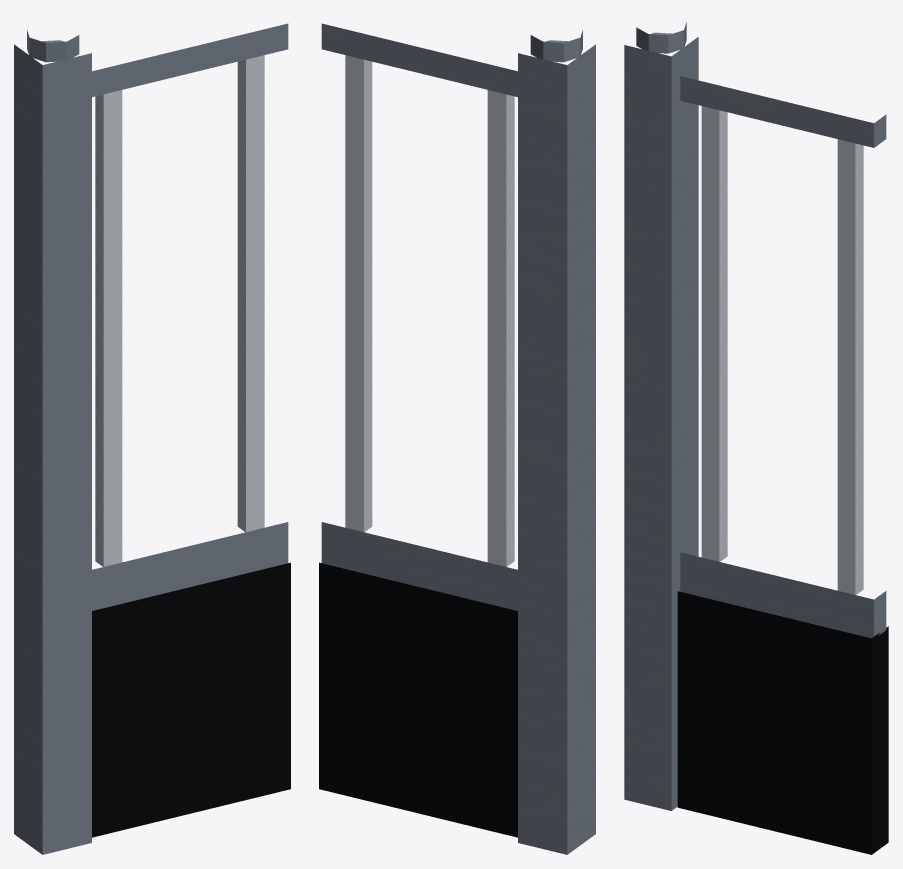
The model's file is tt_play_fence_kick_041.glb.
3 views of the same model, side by side, from view 1: azimuth 30°, elevation 25°; view 2: azimuth 150°, elevation 25°; view 3: azimuth 330°, elevation 25° (orthographic). The views are drawn at different scales.
Parts seen in each view (by area): view 1: Post, Kick, Picket, RailLow, RailTop, Cap; view 2: Post, Kick, Picket, RailLow, RailTop, Cap; view 3: Post, Kick, Picket, RailLow, RailTop, Cap.
Part boxes in pixels (box(x1,y1,x2,y2)): Post: box(14, 44, 91, 854); Kick: box(92, 562, 290, 837); Picket: box(95, 55, 264, 566); RailLow: box(92, 522, 288, 610); RailTop: box(92, 23, 288, 96); Cap: box(27, 30, 79, 62); Post: box(518, 44, 595, 854); Kick: box(319, 562, 517, 837); Picket: box(345, 55, 514, 566); RailLow: box(321, 522, 517, 610); RailTop: box(321, 23, 517, 96); Cap: box(530, 30, 582, 62); Post: box(624, 37, 698, 810); Kick: box(677, 591, 888, 854); Picket: box(701, 106, 863, 594); RailLow: box(680, 552, 886, 638); RailTop: box(680, 76, 886, 147); Cap: box(636, 22, 686, 53).
Size of what is drawn, in the model's own units: 0.41 by 1.25 by 0.08.
3 materials, 3 textured.
